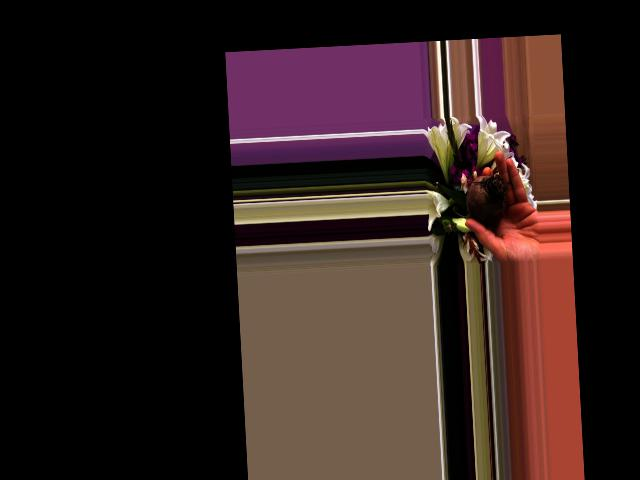beet: (452, 174, 508, 228)
